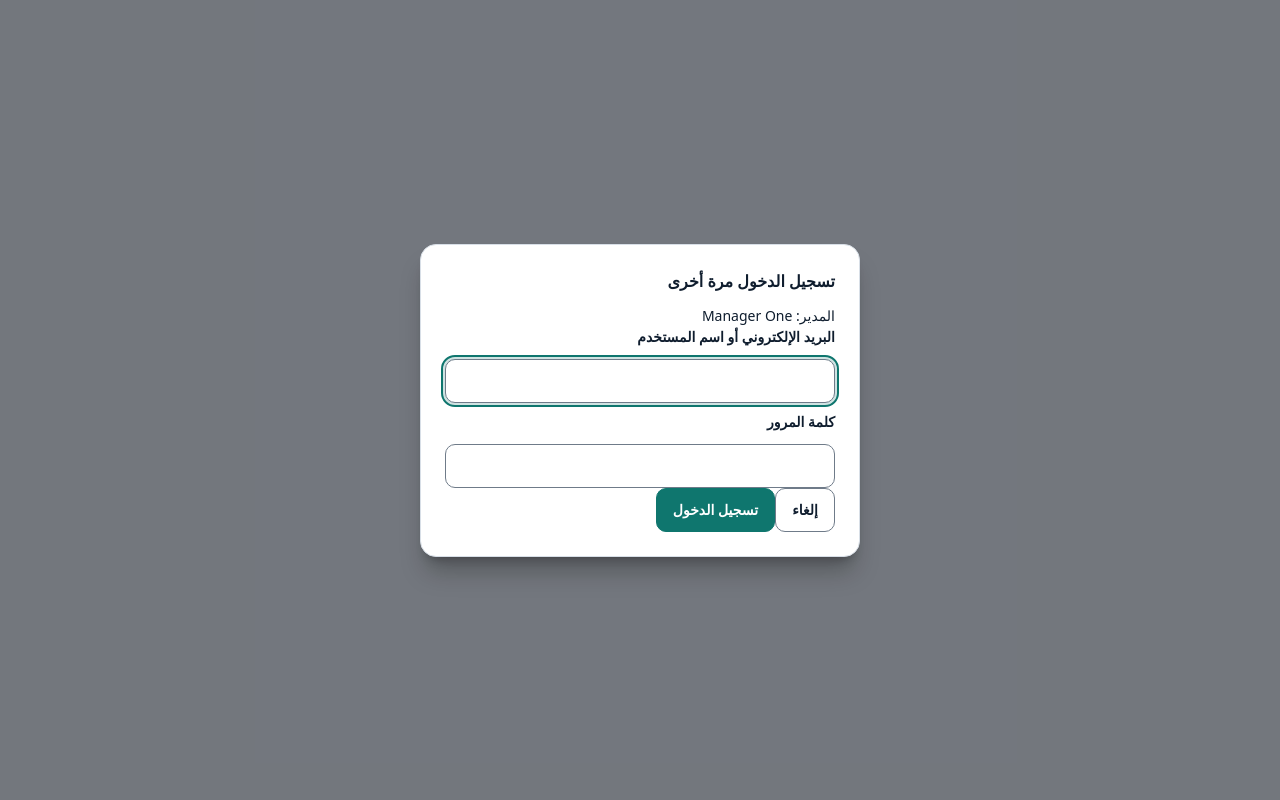
RT-358 ReauthDialog › a no_connection refusal shows the sign-in copy, clears the password and stays open
The width and height of the screenshot is (1280, 800).
Type "mgr@example.test" into the field with test id "reauth-identifier".
click(640, 380); type("mgr@example.test")  # box [445, 358, 835, 402]
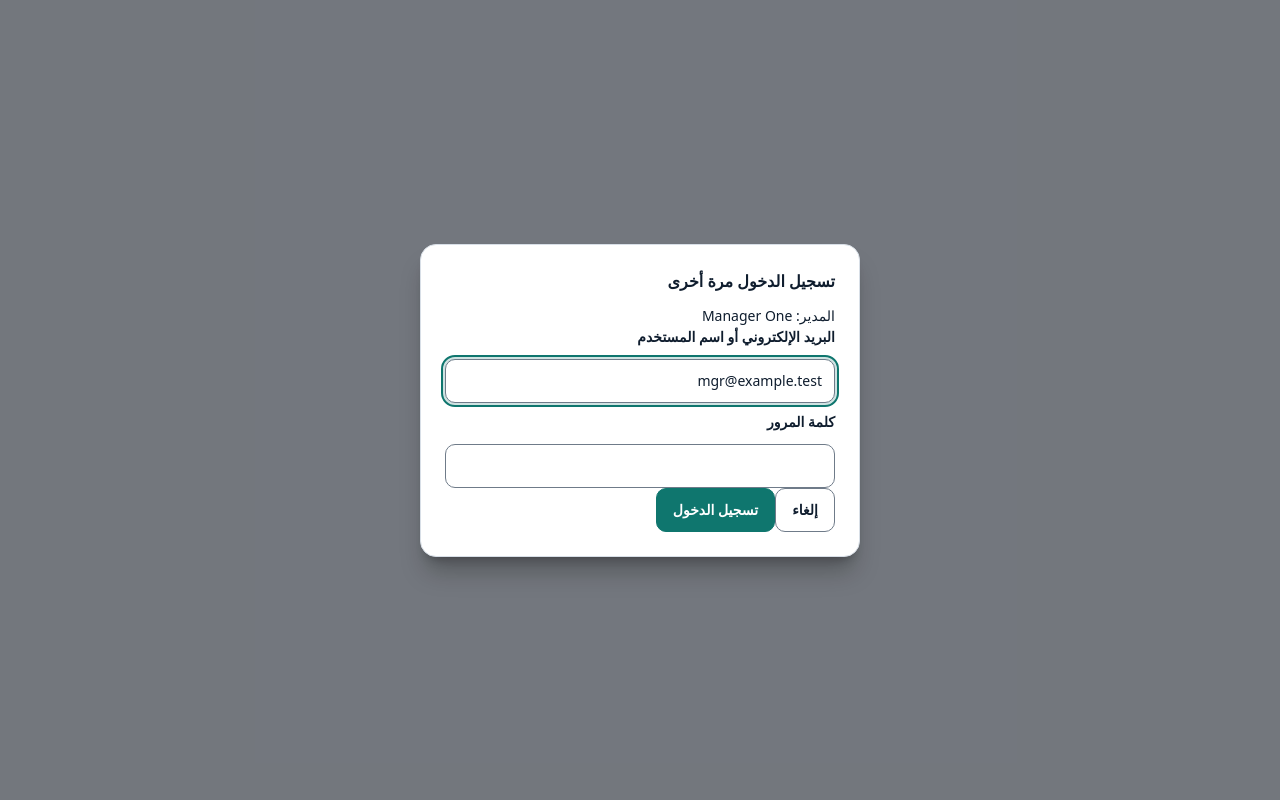
Type "wrong" into the password field with test id "reauth-password".
click(640, 466); type("wrong")  # box [445, 444, 835, 488]
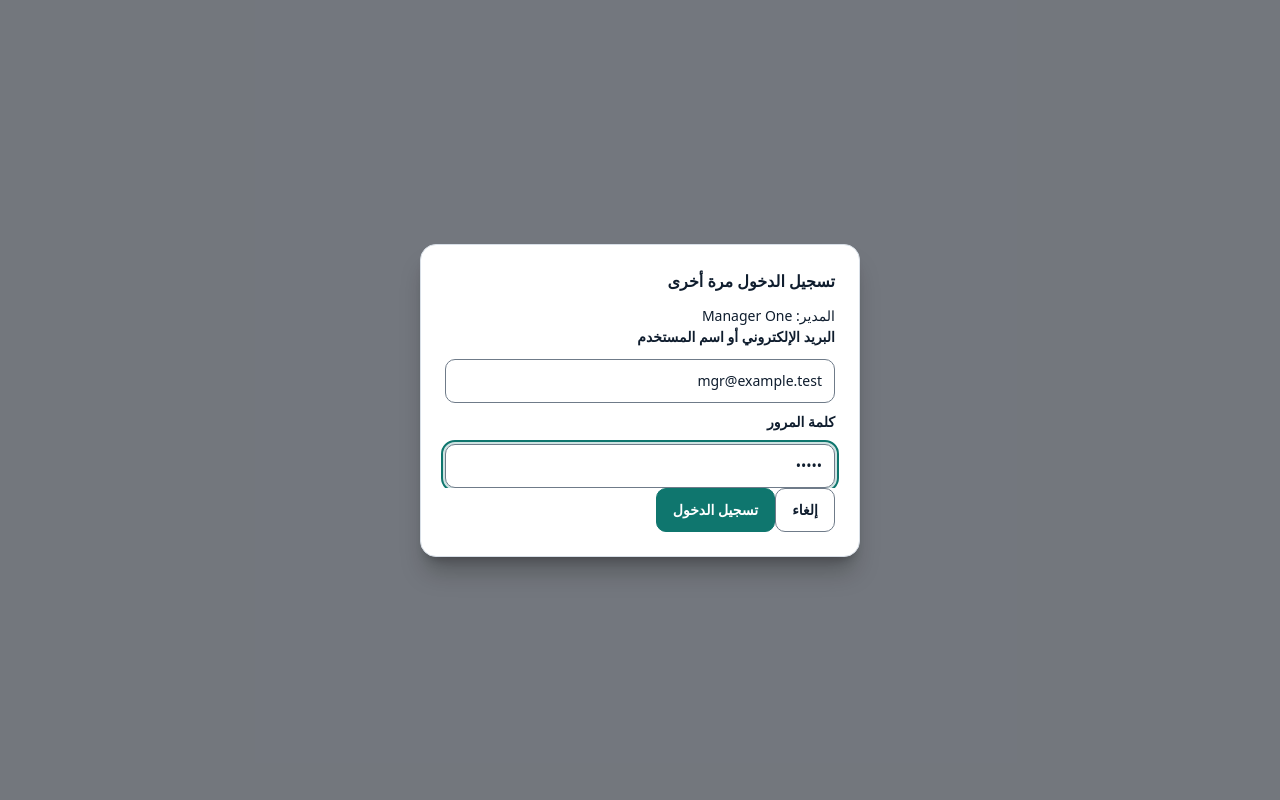
Click the button "تسجيل الدخول".
click(716, 510)  # box [656, 488, 775, 532]
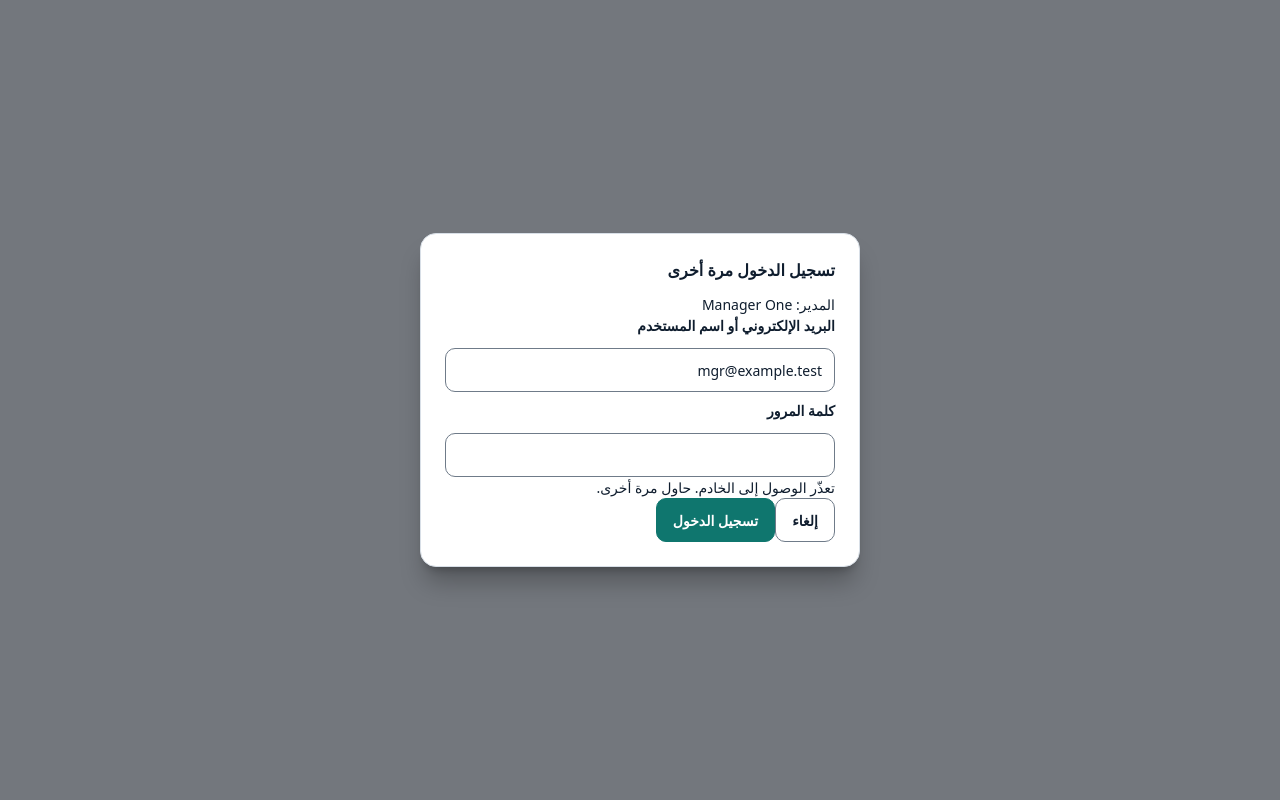
expect the dialog is shown: met, box [420, 233, 860, 567]
expect the message with test id "reauth-refusal" reads "تعذّر الوصول إلى الخادم. حاول مرة أخرى.": met, box [596, 478, 835, 497]
expect the password field with test id "reauth-password" is empty: met, box [445, 433, 835, 477]
